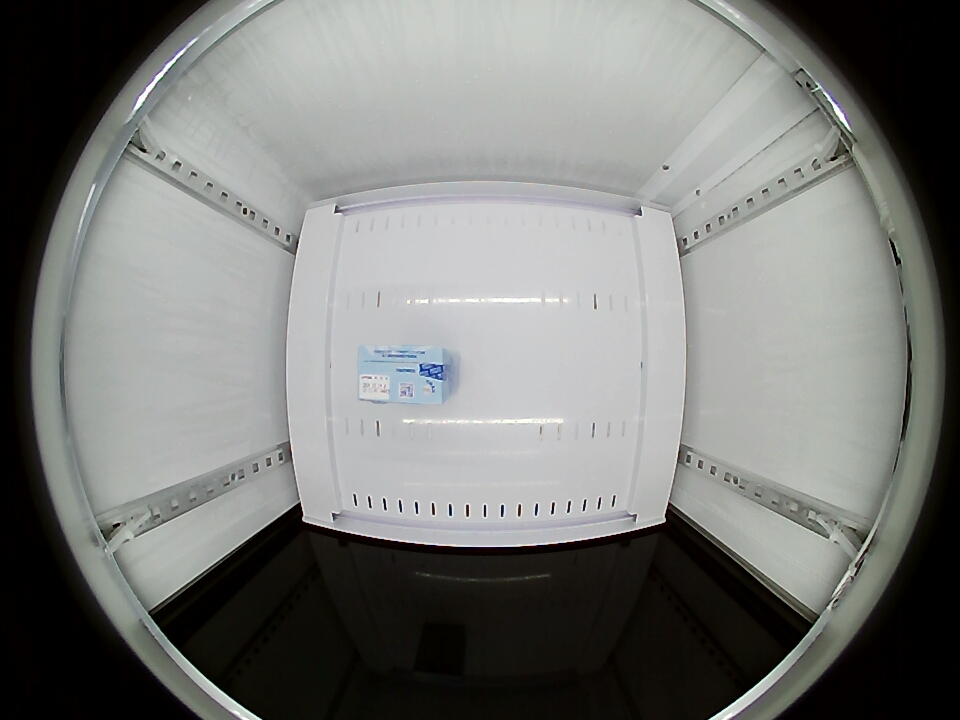weitanaiditang: (357, 344, 453, 405)
